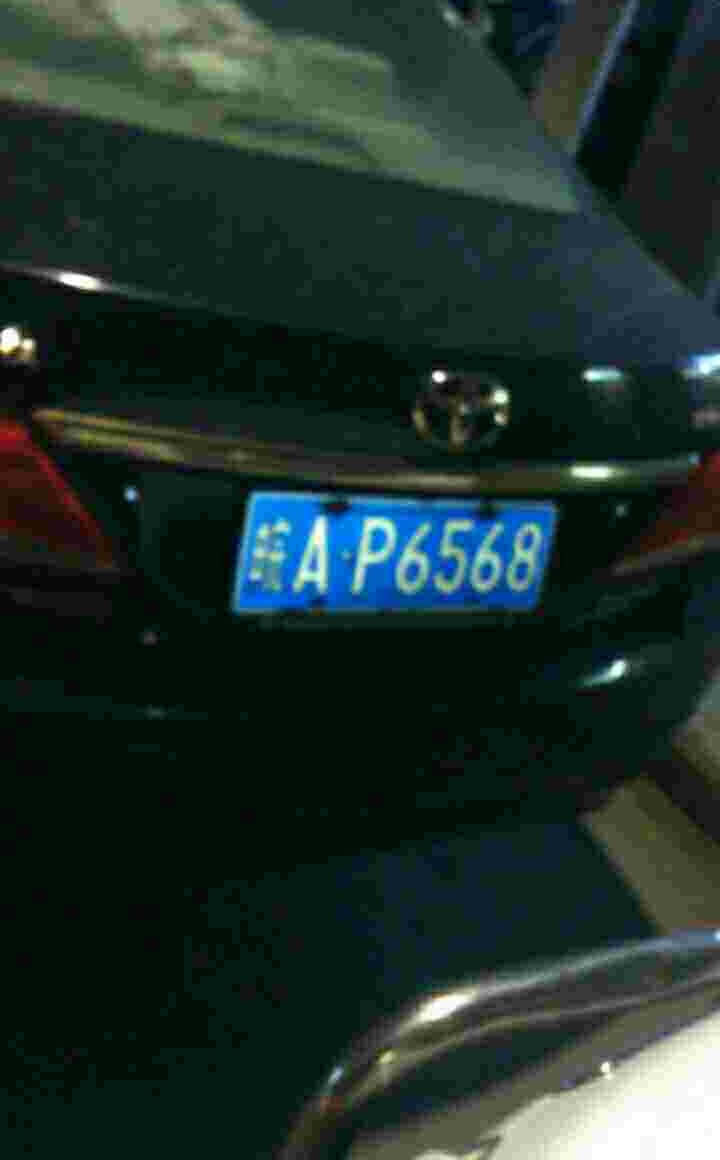license_plate: (238, 488, 563, 623)
